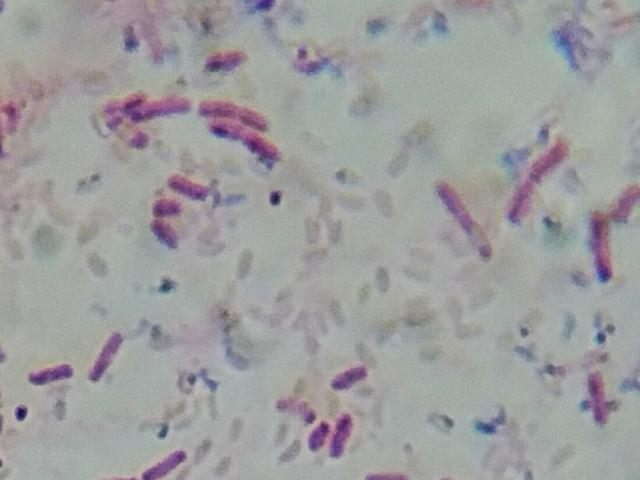E. coli: (435, 181, 490, 255), (209, 116, 276, 155), (200, 89, 271, 122), (88, 325, 125, 385), (581, 366, 612, 423), (205, 43, 256, 75), (505, 179, 542, 223), (610, 173, 640, 225), (141, 445, 185, 479), (591, 212, 614, 273), (332, 410, 356, 459), (105, 108, 135, 147), (134, 96, 192, 116), (328, 363, 371, 388), (276, 400, 319, 424), (167, 168, 208, 193), (26, 360, 67, 384), (535, 141, 563, 174), (309, 414, 328, 457), (149, 191, 178, 214), (150, 219, 173, 247), (363, 467, 405, 480)
